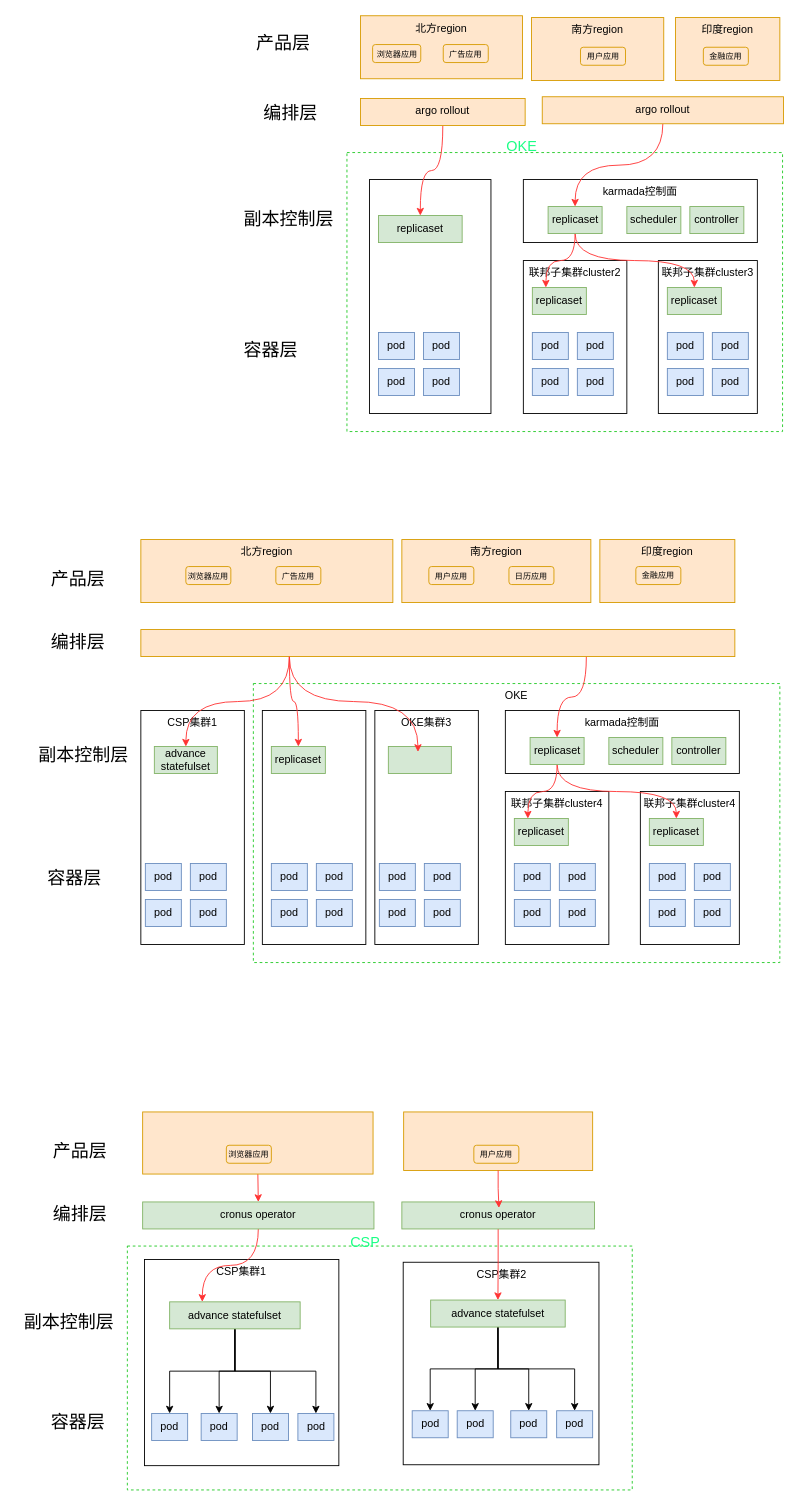
This 799x1506 diagram has some shape labels left out. The shapes that lost their labels are listed below. From the top down, each one's box as (x1, y1, x2, y2) in pixels, then its label:
(369, 179, 491, 414): OKE集群1
(140, 629, 735, 657): baymax-go编排管理
(387, 746, 451, 774): statefulset
(261, 710, 366, 945): OKE集群2
(142, 1111, 373, 1174): 集群1
(403, 1111, 593, 1170): 集群2
